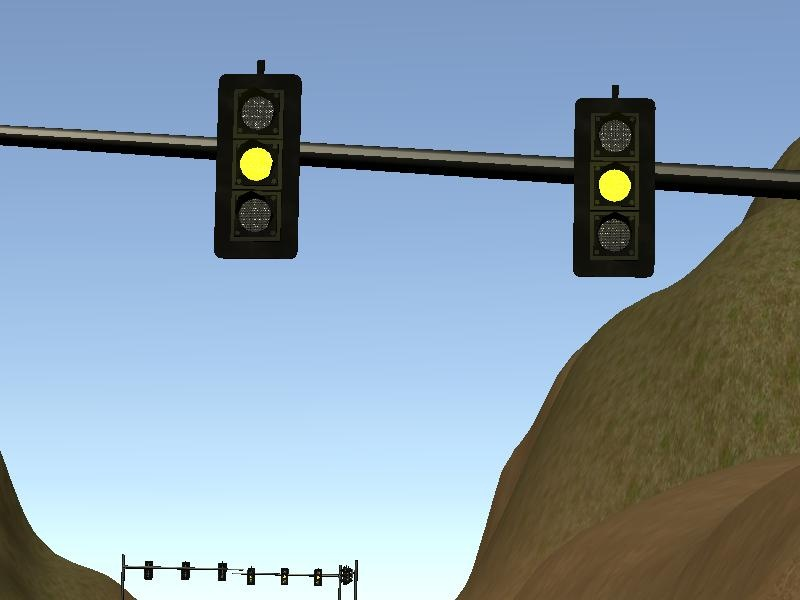yellow: (199, 57, 307, 273), (560, 78, 662, 283)
